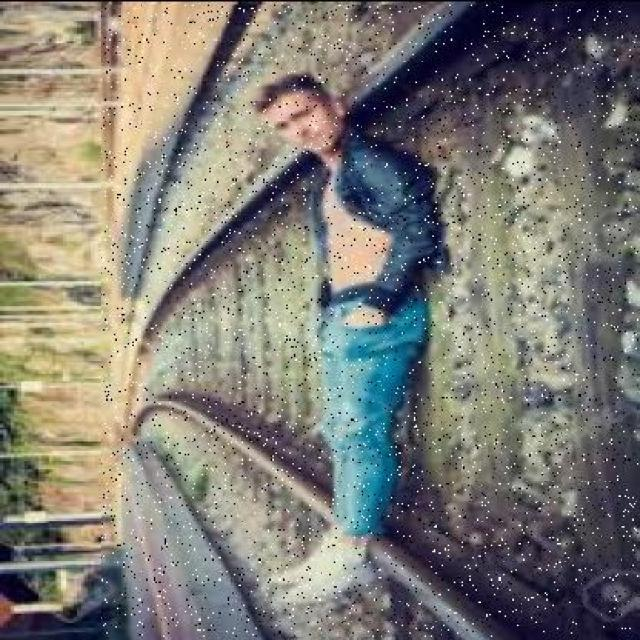danger: (267, 75, 442, 614)
rail: (101, 4, 638, 635)
